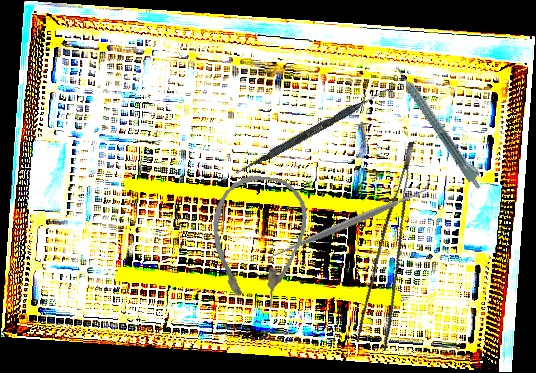Cannula: (203, 171, 312, 311)
Handpiece: (392, 60, 489, 192)
Spatula Surgical: (234, 80, 396, 180), (263, 178, 436, 267)
Tissue Forceps: (345, 141, 449, 352)
